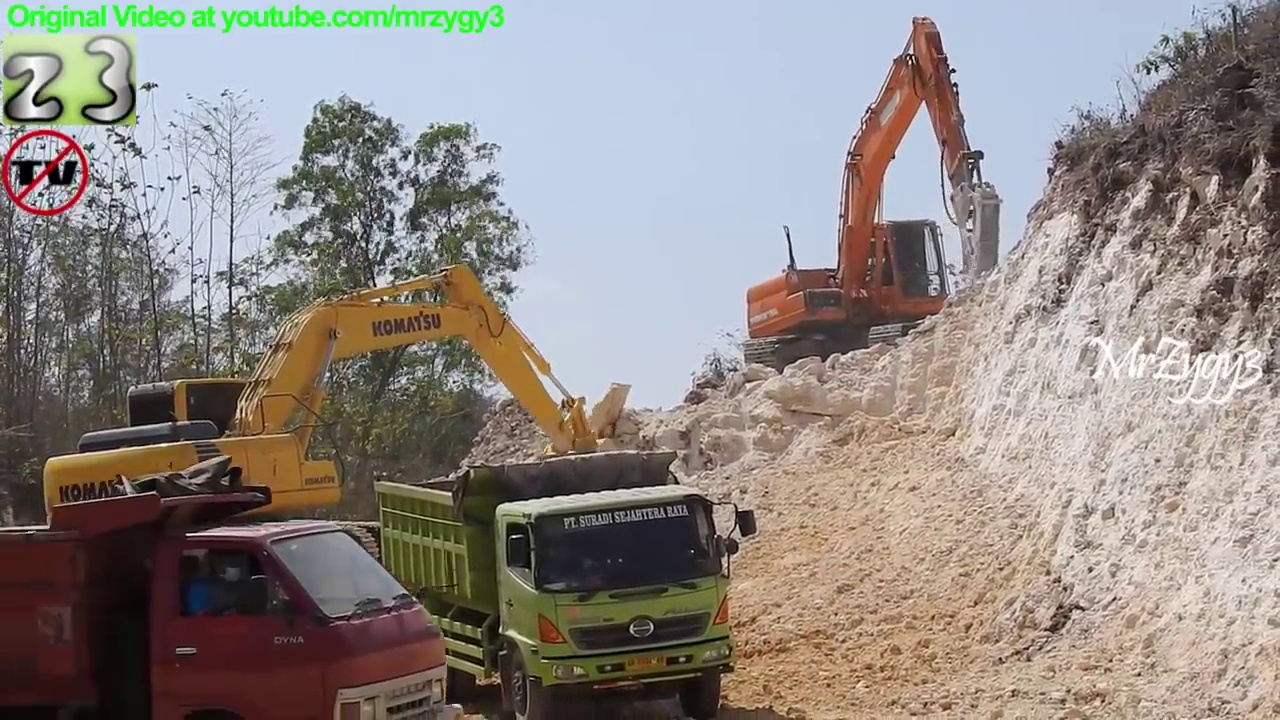excavator: (40, 261, 640, 620), (741, 10, 1007, 379)
truck: (3, 454, 469, 720), (374, 443, 769, 717)
